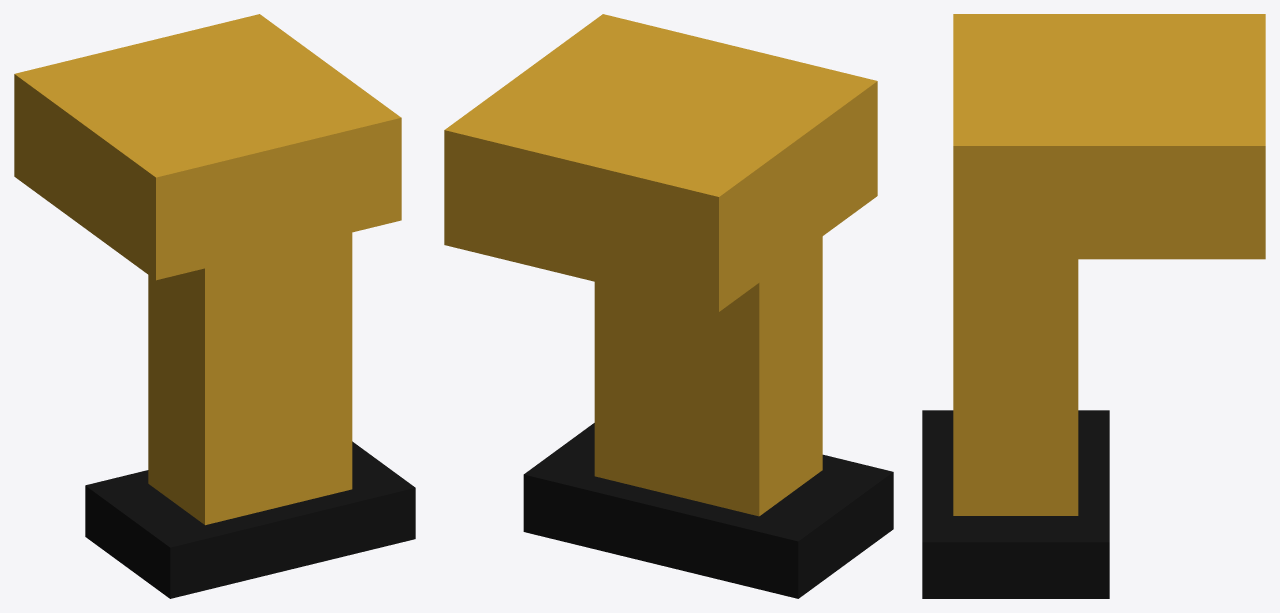
File: hoist_stabiliser.glb
The picture shows the model from 3 angles, left to right: view 1: azimuth 30°, elevation 25°; view 2: azimuth 150°, elevation 25°; view 3: azimuth 270°, elevation 25°; orthographic projection. The views are drawn at different scales.
Parts seen in each view (by area): view 1: body:compound; view 2: body:compound; view 3: body:compound.
Boxes of the visible parts, box(x1,y1,x2,y2) form: body:compound: box(14, 14, 415, 598); body:compound: box(444, 14, 893, 598); body:compound: box(922, 14, 1265, 598).
Bounding box in the file's own units: 0.3125 × 0.5 × 0.3438.
